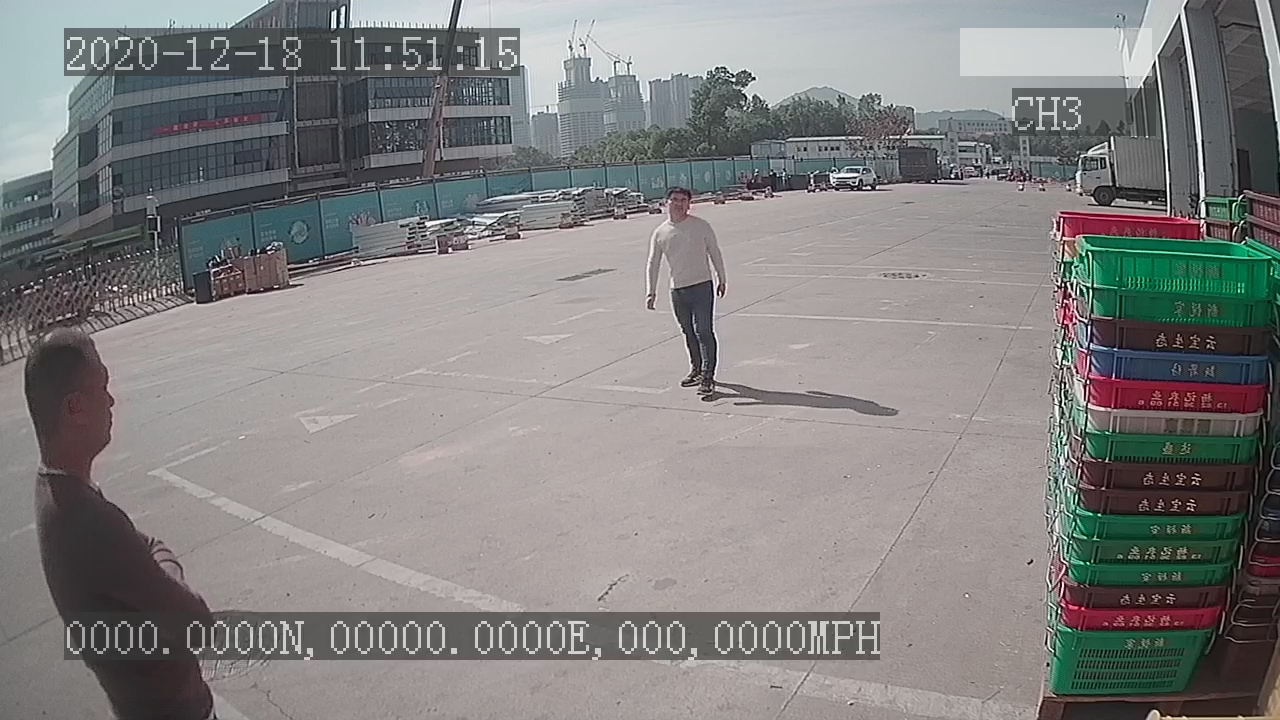person: (638, 186, 734, 401)
